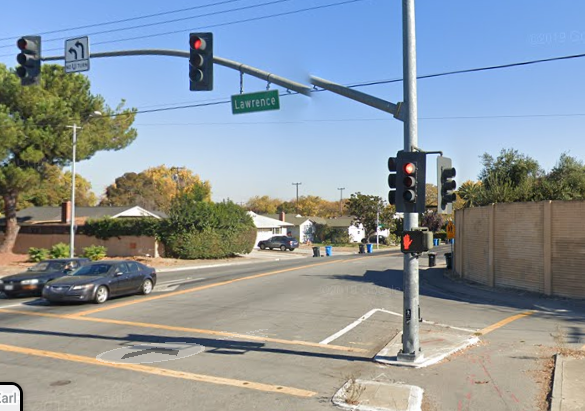red_light: (397, 154, 423, 211), (189, 33, 212, 86)
